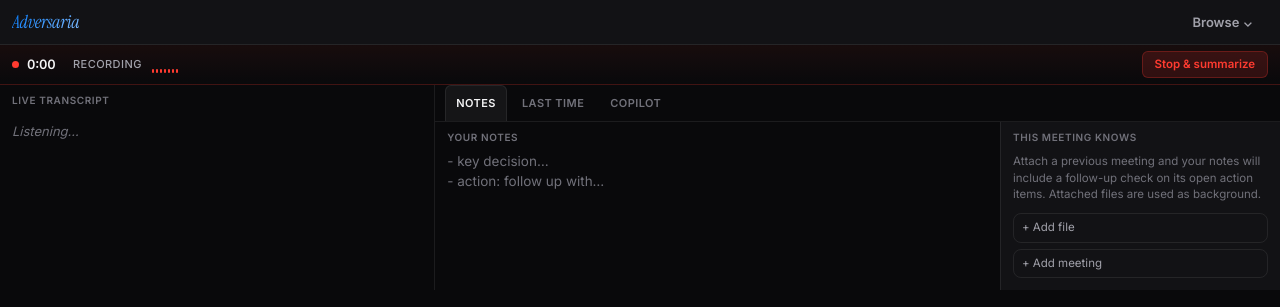
Scenario: RecordingCompanion › shows Folder: Interviews when brief resolves Interviews
Click the tab "Copilot" at coordinates (636, 103), box [599,85,672,121]
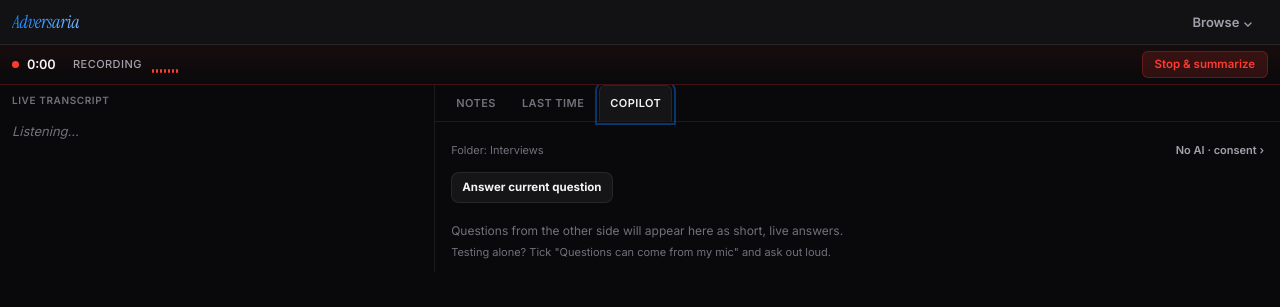
Check: the text "Folder: Interviews" is shown, box [451,143,544,157]
